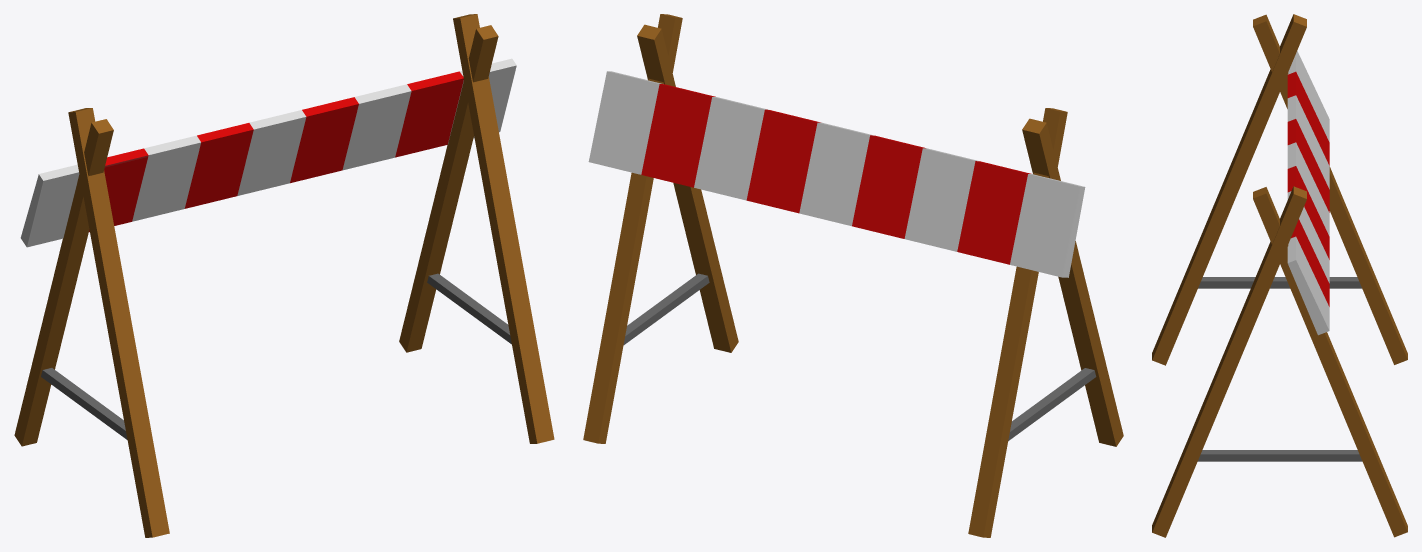
Rendered from Larry_Run__Road_Barrier.fbx.
3 views of the same model, side by side, from view 1: azimuth 30°, elevation 25°; view 2: azimuth 150°, elevation 25°; view 3: azimuth 270°, elevation 25° (orthographic). The views are drawn at different scales.
Visible parts, largest first — view 1: Jump_Barrier; view 2: Jump_Barrier; view 3: Jump_Barrier.
Boxes of the visible parts, bbox=[...] form: Jump_Barrier: bbox=[14, 14, 554, 537]; Jump_Barrier: bbox=[583, 14, 1123, 537]; Jump_Barrier: bbox=[1152, 14, 1407, 537].
Size of the model in its own units: 100 by 75.8 by 51.05.
